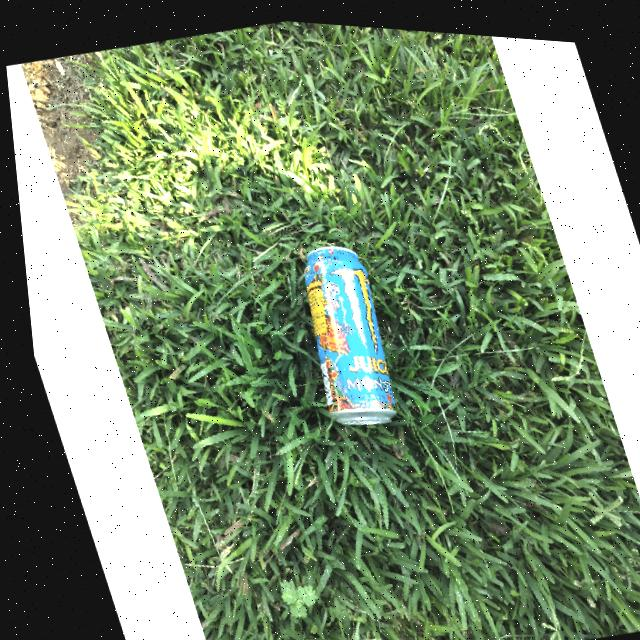Monster Mango Loco: (275, 230, 408, 429)
